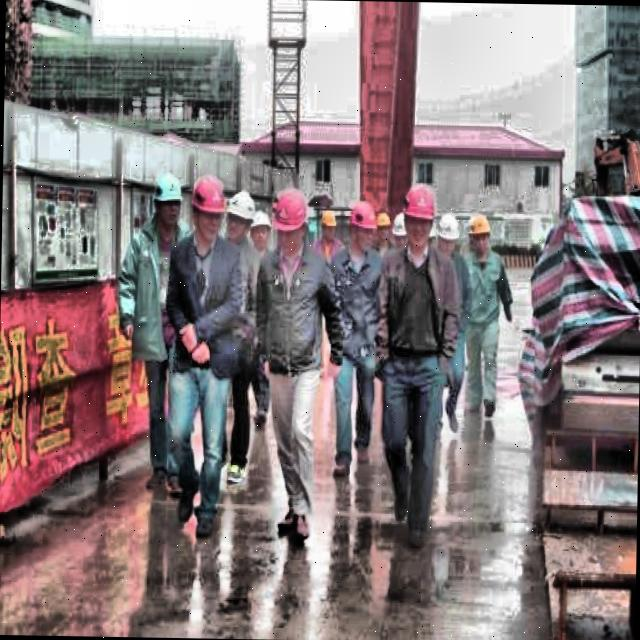helmet: (268, 184, 310, 258), (188, 176, 226, 242), (399, 185, 436, 252), (152, 166, 184, 235), (344, 196, 373, 254), (433, 208, 462, 265), (227, 190, 253, 244), (467, 210, 492, 260), (248, 209, 272, 257), (316, 202, 339, 250), (373, 209, 392, 250)
